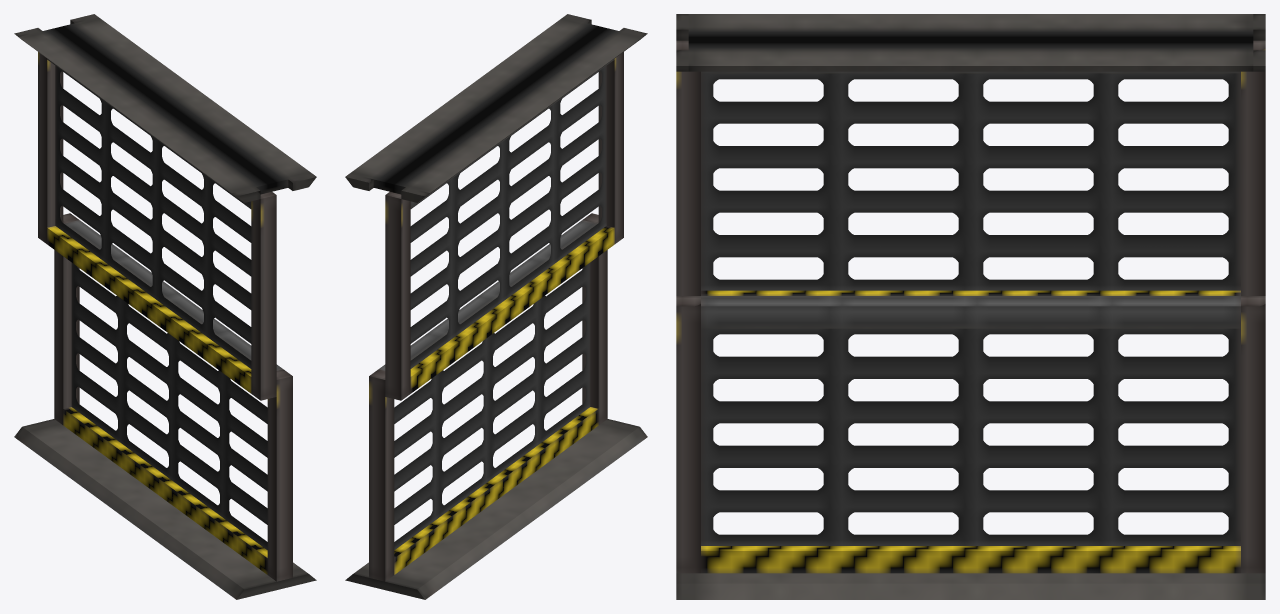
File: cargo_door.obj
The picture shows the model from 3 angles, left to right: view 1: azimuth 30°, elevation 25°; view 2: azimuth 150°, elevation 25°; view 3: azimuth 270°, elevation 25°; orthographic projection. The views are drawn at different scales.
Parts seen in each view (by area): view 1: DoorBot, DoorTop, Frame; view 2: DoorBot, DoorTop, Frame; view 3: DoorBot, DoorTop, Frame.
Boxes of the visible parts, x1,y1,x2,y2 form: DoorBot: (54, 213, 292, 581); DoorTop: (38, 52, 276, 400); Frame: (14, 14, 316, 599); DoorBot: (369, 213, 607, 581); DoorTop: (385, 52, 623, 400); Frame: (345, 14, 647, 599); DoorBot: (676, 296, 1265, 573); DoorTop: (676, 40, 1265, 306); Frame: (676, 14, 1265, 599).
Bounding box in the file's own units: 0.625 × 3 × 3.
Materials: 1 (1 with a texture image).
